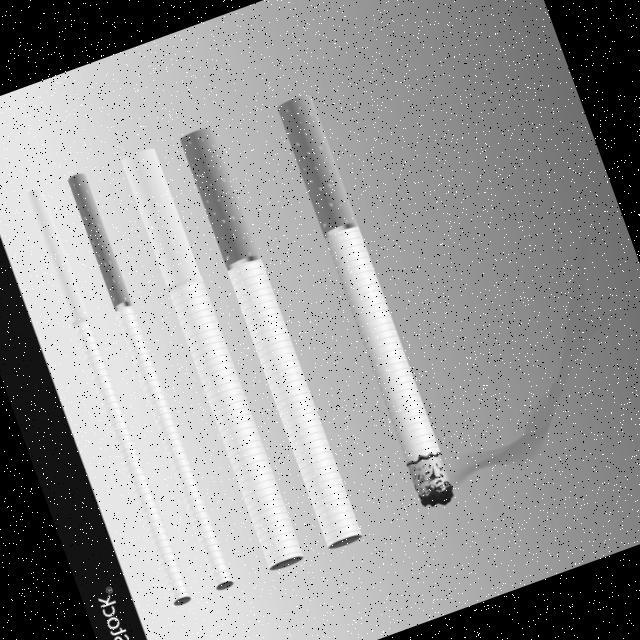cigarette: (270, 90, 463, 514)
